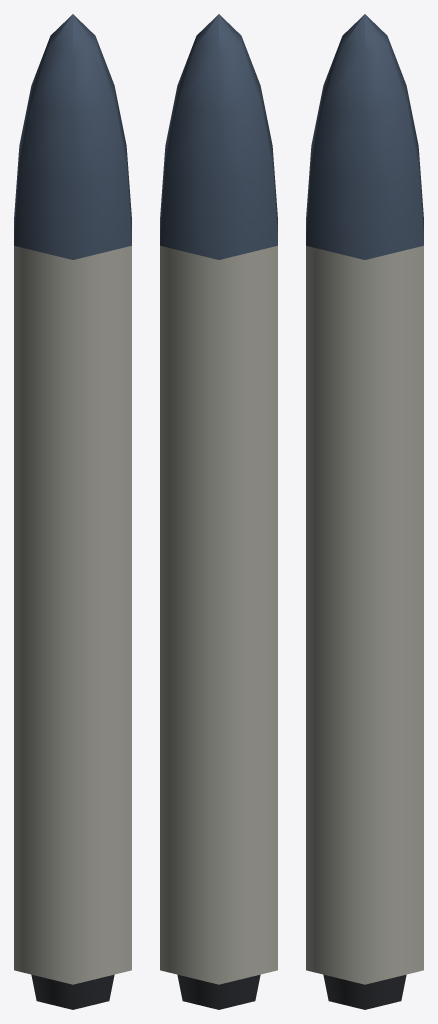
Rendered from pb8_missile_4.obj.
3 renders of one model, left to right at view 1: azimuth 90°, elevation 25°; view 2: azimuth 210°, elevation 25°; view 3: azimuth 270°, elevation 25°, orthographic.
Visible parts, largest first — view 1: pb8_missile_4; view 2: pb8_missile_4; view 3: pb8_missile_4.
Part boxes in pixels (<box>): pb8_missile_4: <box>14,14,131,1009</box>; pb8_missile_4: <box>160,14,277,1009</box>; pb8_missile_4: <box>306,14,423,1009</box>.
Bounding box in the file's own units: 0.136 × 1.08 × 0.1178.
